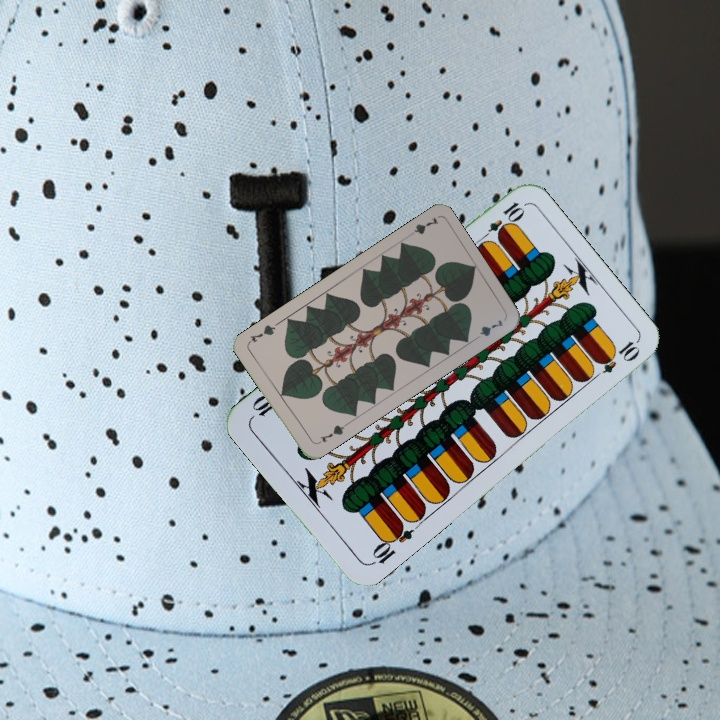E10: (366, 518, 416, 568), (476, 198, 527, 245)
G7: (402, 213, 441, 241), (313, 420, 349, 447)
